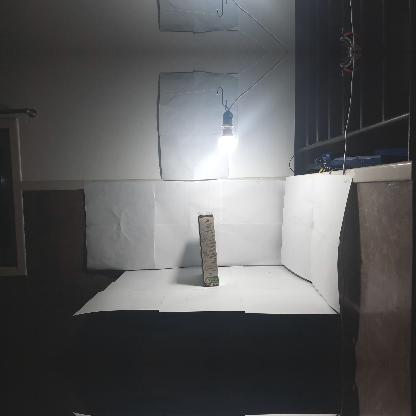Koko-Krunch: (197, 212, 219, 286)
